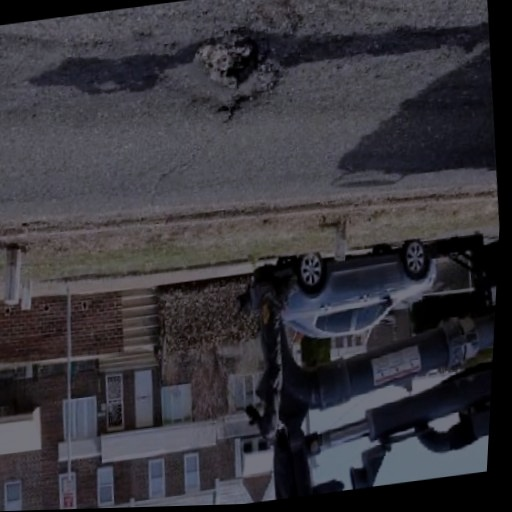pothole: (178, 18, 293, 127)
